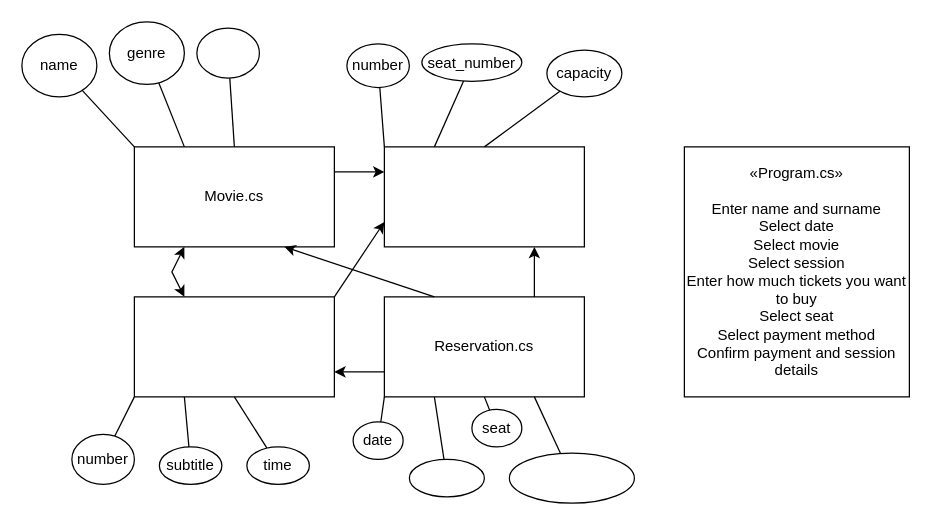
Image size: 931x525. Some labels were removed from this diagram. The box of each missing label's shape, as (x1, y1, x2, y2) in pixels:
duration: (196, 27, 259, 78)
full_name: (408, 458, 484, 497)
Hall.cs: (383, 146, 584, 247)
payment_method: (508, 452, 634, 503)
Session.cs: (133, 296, 334, 397)
